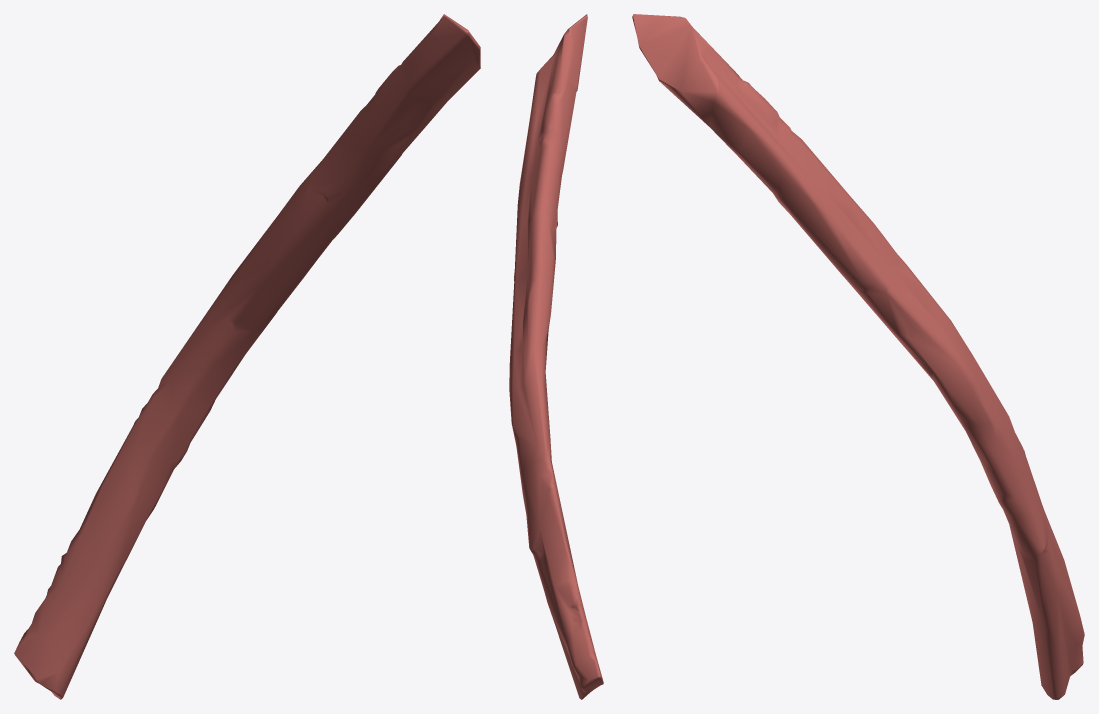
3 renders of one model, left to right at view 1: azimuth 30°, elevation 25°; view 2: azimuth 150°, elevation 25°; view 3: azimuth 270°, elevation 25°, orthographic. The views are drawn at different scales.
Visible parts, largest first — view 1: 左侧肛提肌腱弓; view 2: 左侧肛提肌腱弓; view 3: 左侧肛提肌腱弓.
Part boxes in pixels (x1,y1,x2,y2): 左侧肛提肌腱弓: [14, 14, 480, 699]; 左侧肛提肌腱弓: [509, 14, 603, 699]; 左侧肛提肌腱弓: [632, 14, 1084, 699].
Bounding box in the file's own units: 0.035 × 0.0962 × 0.0502.
